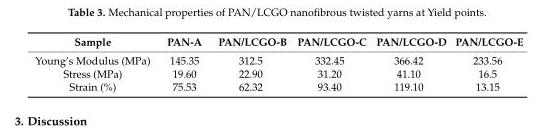table: (34, 34, 522, 92)
table column: (34, 34, 157, 92), (209, 34, 291, 92), (370, 34, 450, 92), (291, 34, 370, 92), (450, 34, 522, 92), (157, 34, 209, 92)
table column header: (34, 34, 522, 50)
table row: (34, 34, 522, 50), (34, 50, 522, 66), (34, 66, 522, 79), (34, 79, 522, 92)
